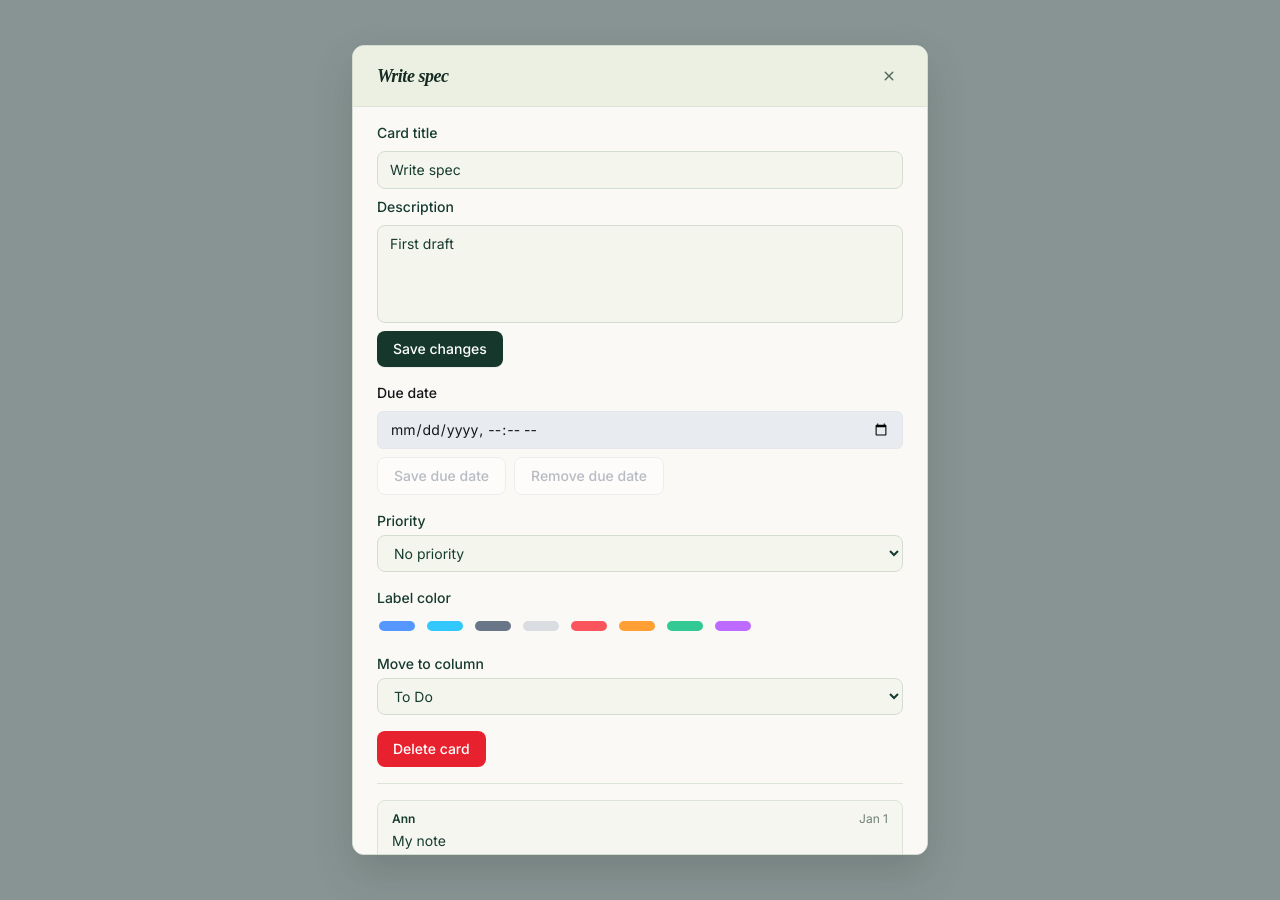
CardDetailModal › keeps the typed due date and shows the error when the server refuses it
The width and height of the screenshot is (1280, 900).
Type "2030-05-06T07:08" into the field labelled "Due date" at (640, 430), box [377,411,903,449]
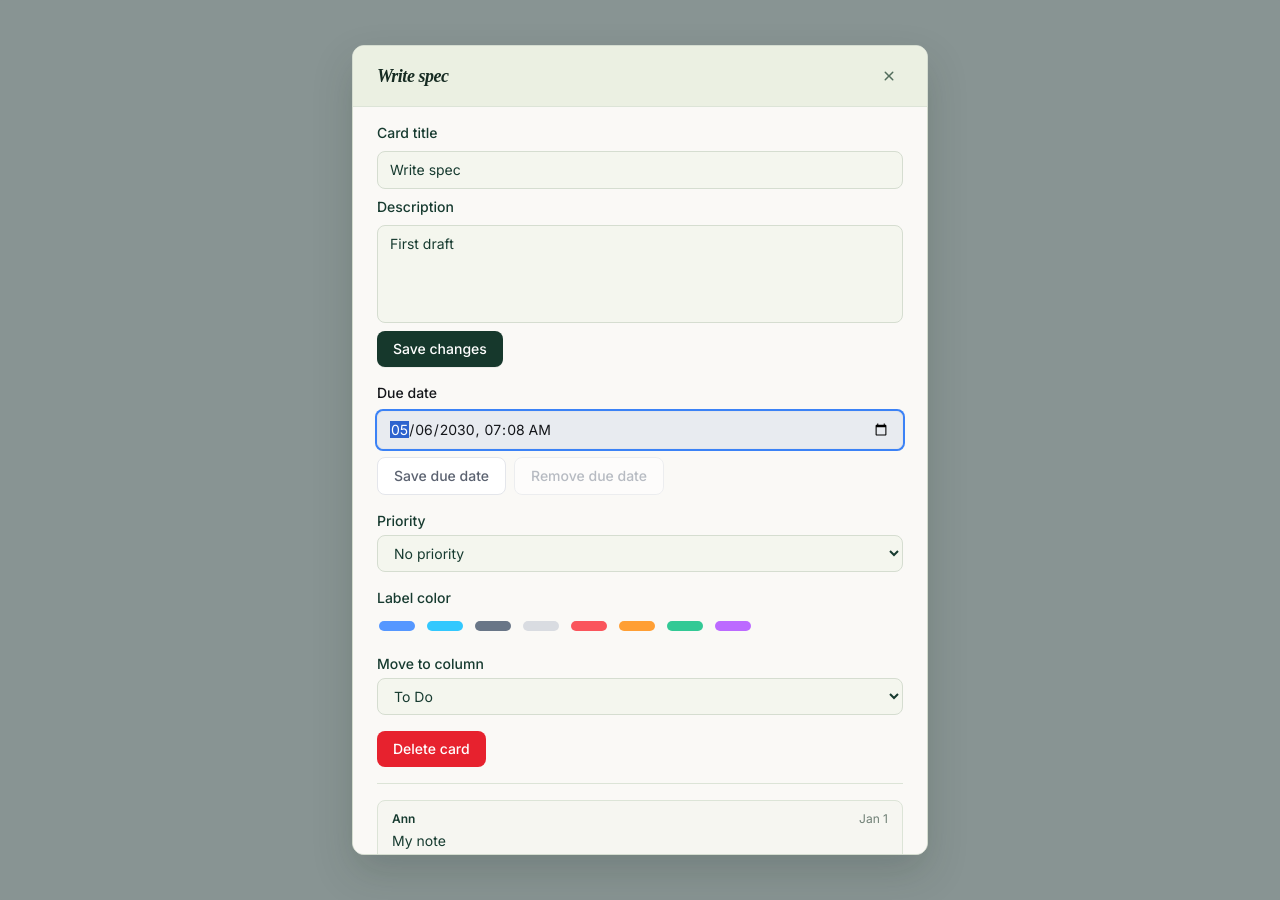
Click the button "Save due date" at (442, 476), box [377,457,506,495]
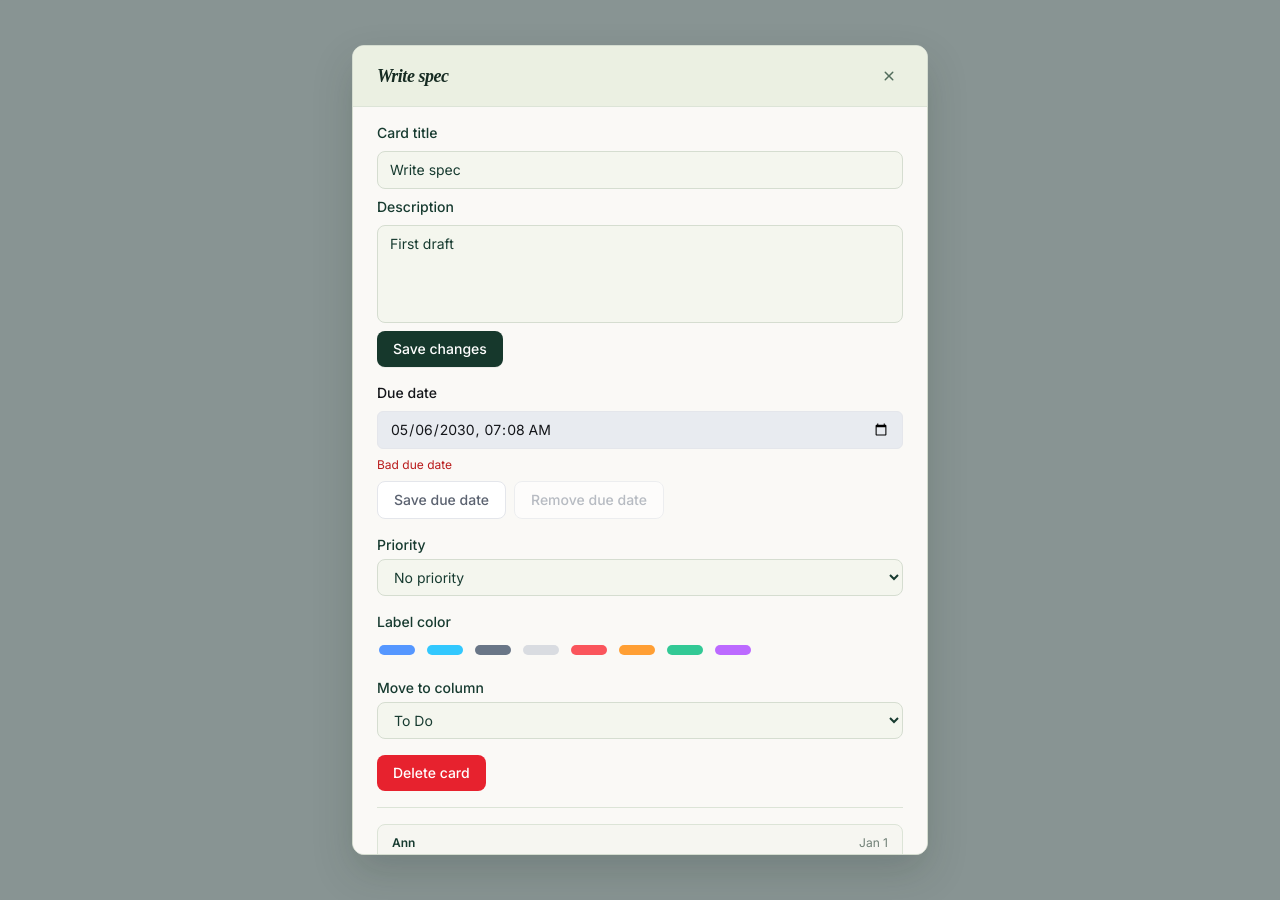
Expected: the text "Bad due date" is shown, [377,457,452,472]
